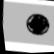correct: (19, 8, 53, 41)
